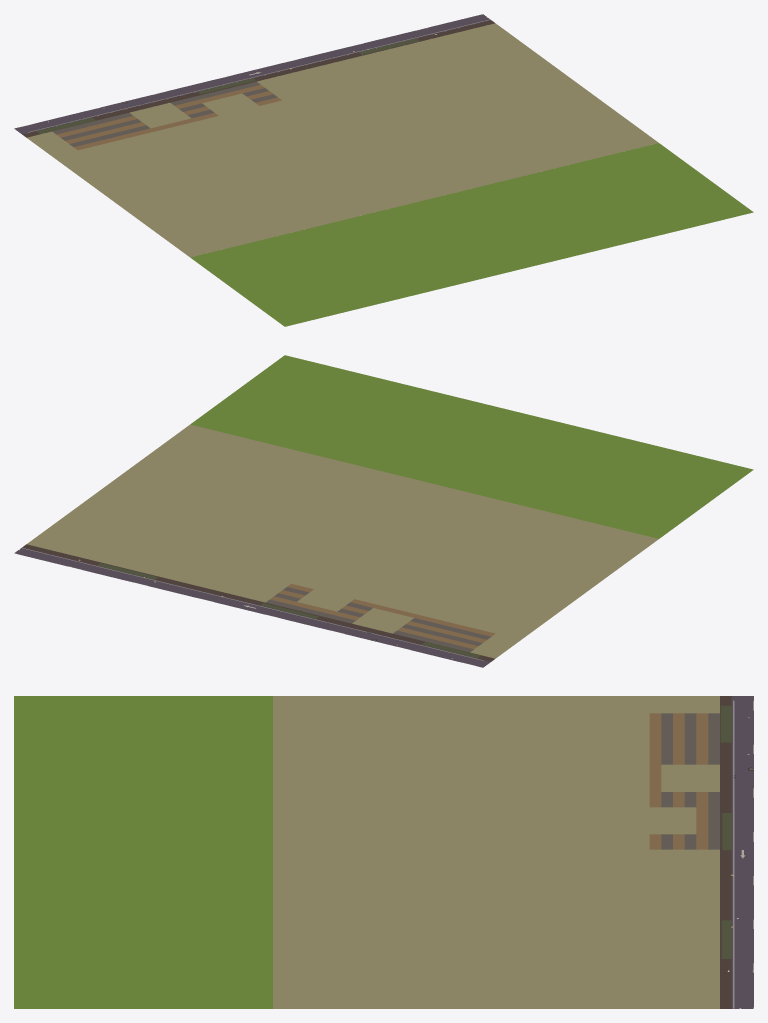
Rendered from cure-8-3.glb.
3 renders of one model, top to bottom at view 1: azimuth 30°, elevation 25°; view 2: azimuth 150°, elevation 25°; view 3: azimuth 270°, elevation 25°, orthographic. The views are drawn at different scales.
Visible parts, largest first — view 1: cure-8-3; view 2: cure-8-3; view 3: cure-8-3.
Part boxes in pixels (x1,y1,x2,y2): cure-8-3: (14, 14, 753, 326); cure-8-3: (14, 355, 753, 667); cure-8-3: (14, 696, 753, 1008).
Size of the model in its own units: 100 by 0.017 by 100.
